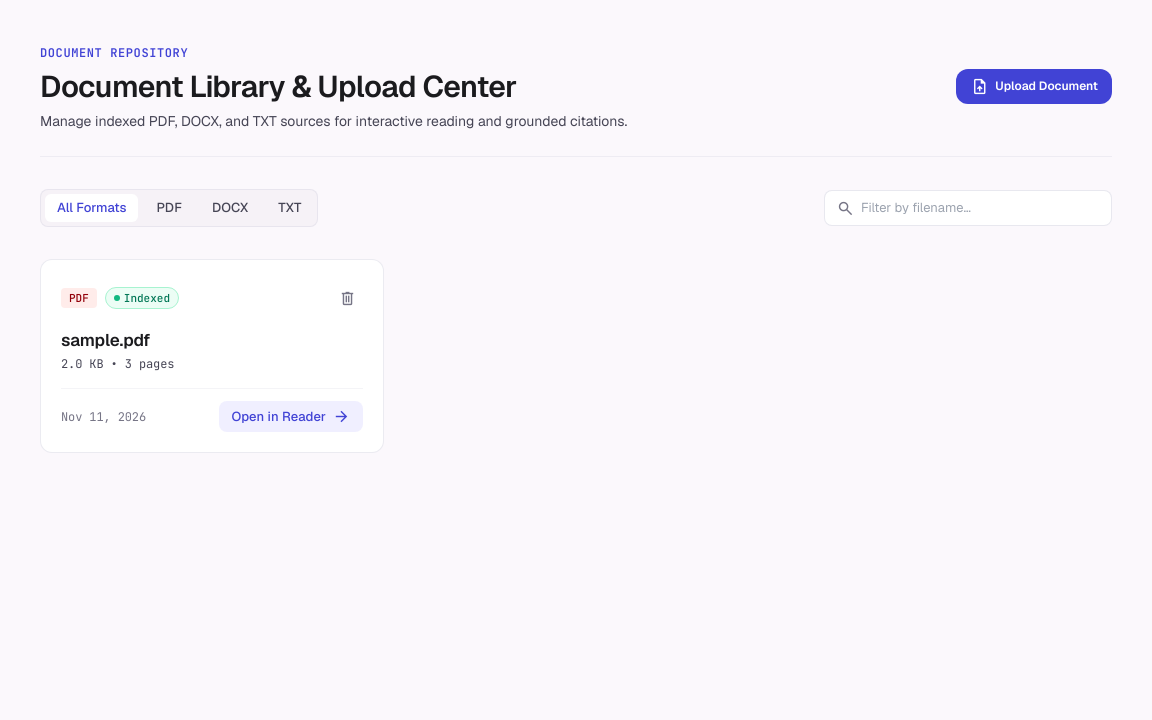
Test: Optimistic document deletion › restores the document and shows an alert if deletion fails
Expected: the heading "sample.pdf" is shown, [61, 329, 150, 351]
Step 1. Click the button named "delete sample.pdf" → (348, 298), box [332, 280, 363, 316]
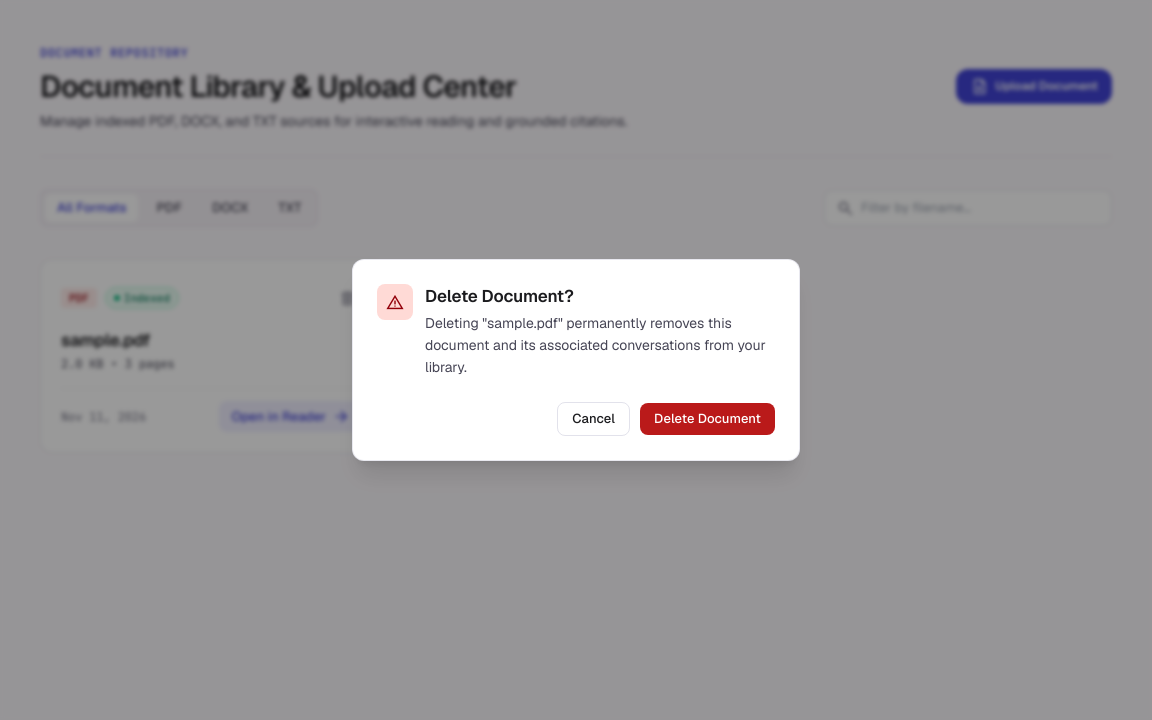
Step 2. Click the button "Delete Document" → (708, 419), box [640, 403, 775, 435]
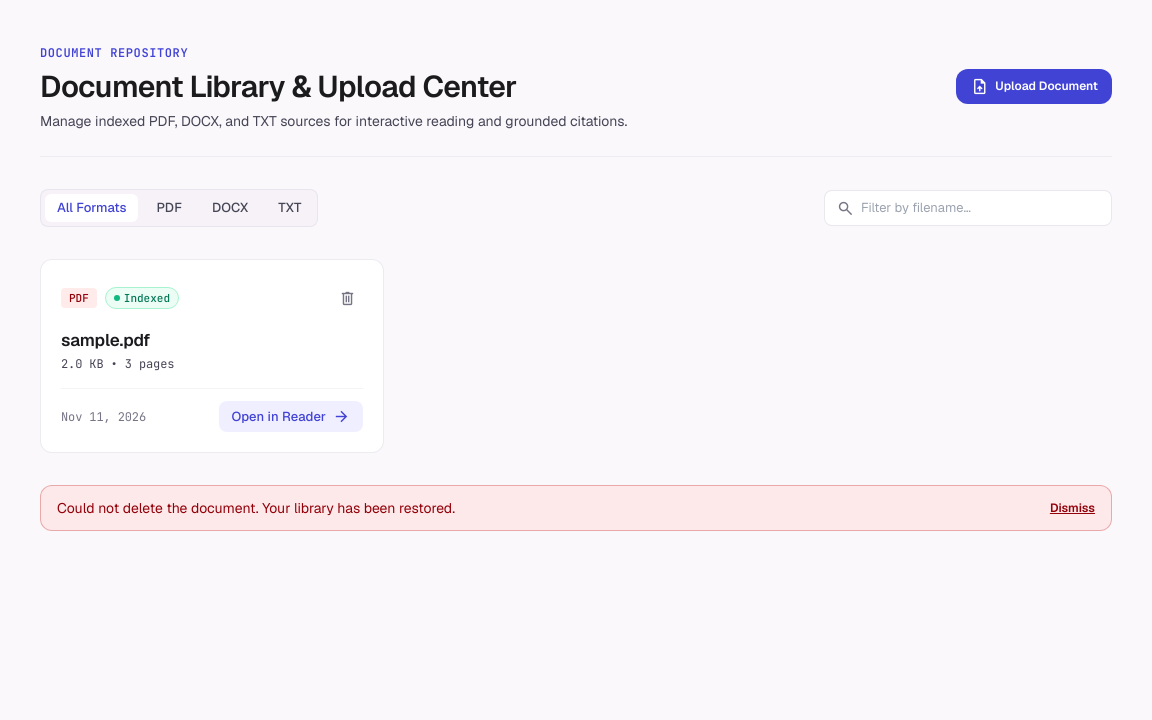
Expected: the heading "sample.pdf" is shown, [61, 329, 150, 351]
Result: the message shows "Could not delete the document. Your library has been restored." at [57, 499, 455, 517]
